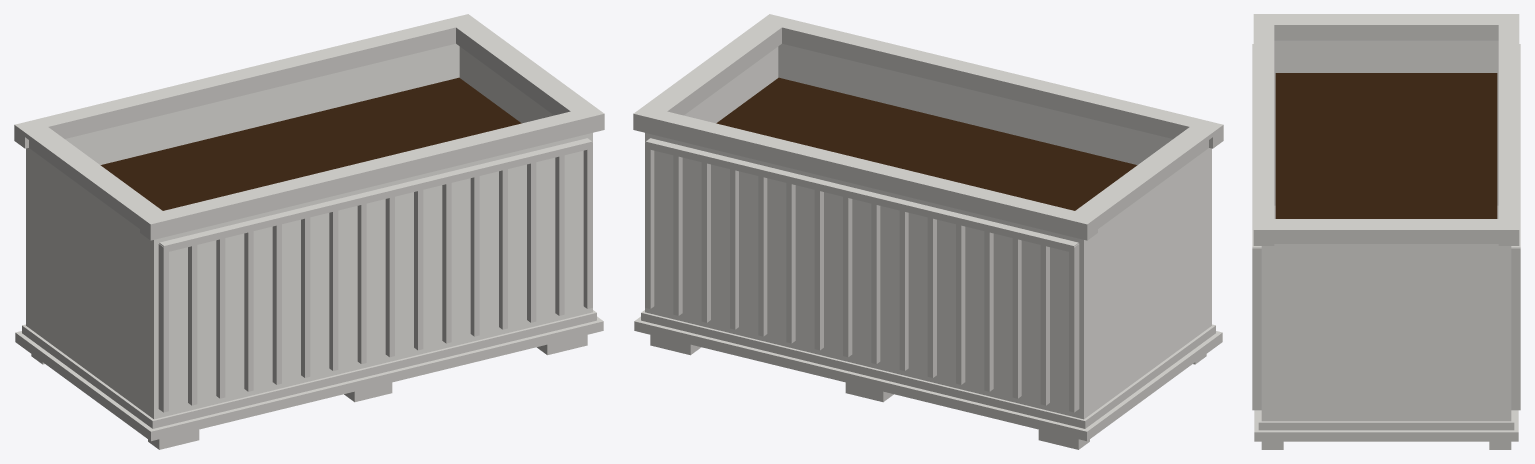
3 renders of one model, left to right at view 1: azimuth 30°, elevation 25°; view 2: azimuth 150°, elevation 25°; view 3: azimuth 270°, elevation 25°, orthographic. The views are drawn at different scales.
Parts seen in each view (by area): view 1: left-wall, soil, back-wall, rim-f, rim-b, base-lo, front-wall, base-hi, rail-f, rim-r, rim-l, plank-f-3 (+35 smaller); view 2: left-wall, soil, front-wall, rim-b, rim-f, base-lo, back-wall, base-hi, rail-b, rim-r, rim-l, plank-b-3 (+35 smaller); view 3: right-wall, soil, left-wall, rim-l, rim-b, rim-f, rim-r, base-lo, rim-top-r, base-hi, back-wall, front-wall (+5 smaller).
Boxes of the visible parts, x1,y1,x2,y2 form: left-wall: (26, 148, 165, 419); soil: (100, 77, 521, 210); back-wall: (26, 43, 459, 225); rim-f: (140, 106, 604, 240); rim-b: (14, 14, 478, 148); base-lo: (15, 316, 603, 441); front-wall: (147, 133, 592, 418); base-hi: (22, 310, 596, 428); rail-f: (159, 138, 592, 252); rim-r: (445, 15, 600, 135); rim-l: (29, 123, 173, 238); plank-f-3: (253, 226, 272, 386); left-wall: (1072, 151, 1211, 419); soil: (716, 77, 1137, 210); front-wall: (778, 43, 1211, 330); rim-b: (633, 106, 1097, 240); rim-f: (759, 14, 1223, 148); base-lo: (634, 316, 1222, 441); back-wall: (645, 133, 1090, 418); base-hi: (641, 310, 1215, 428); rail-b: (645, 138, 1078, 252); rim-r: (637, 15, 791, 135); rim-l: (1064, 122, 1208, 238); plank-b-3: (965, 226, 984, 386); right-wall: (1261, 244, 1511, 421); soil: (1275, 73, 1497, 218); left-wall: (1274, 40, 1498, 205); rim-l: (1254, 15, 1518, 40); rim-b: (1498, 14, 1519, 245); rim-f: (1253, 14, 1274, 245); rim-r: (1254, 219, 1498, 243); base-lo: (1254, 410, 1518, 441); rim-top-r: (1274, 221, 1498, 234); base-hi: (1258, 410, 1514, 430); back-wall: (1498, 246, 1511, 421); front-wall: (1261, 246, 1274, 421).
Bounding box in the file's own units: 0.82 × 0.4 × 0.43.
